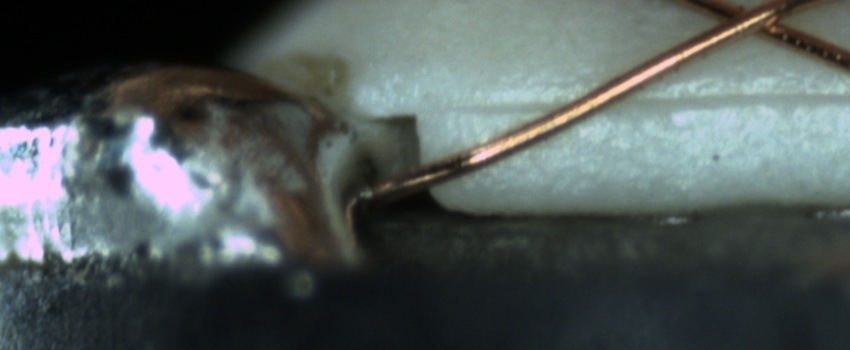CL: (691, 1, 807, 46)
DL: (438, 70, 849, 131)
